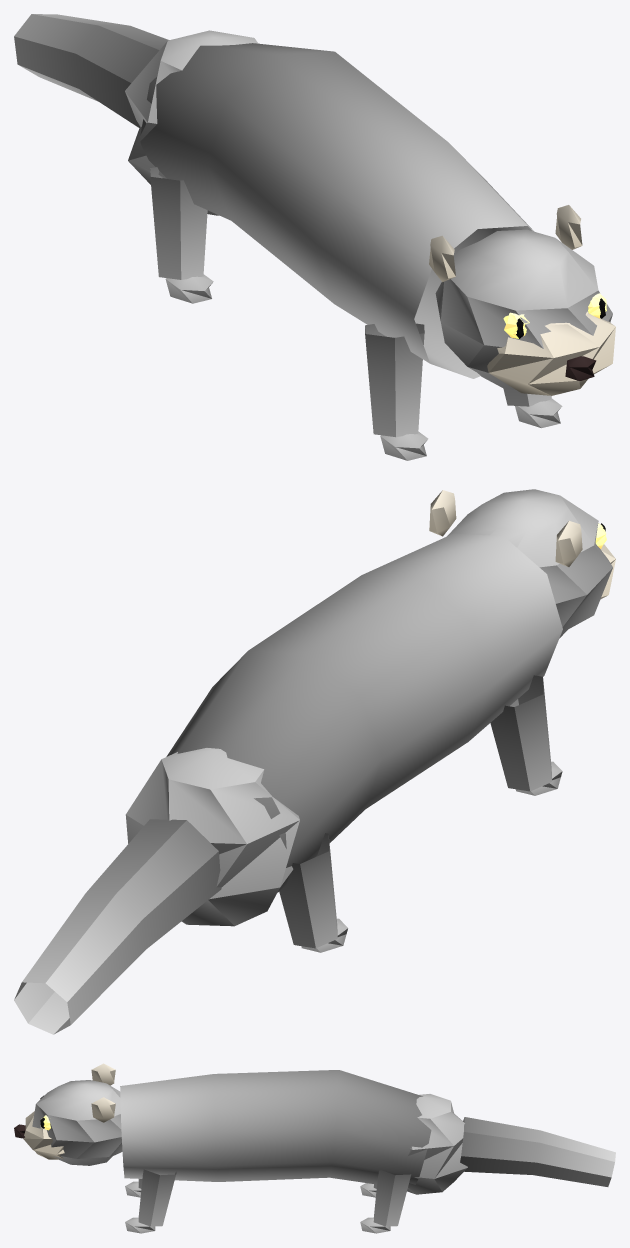
File: polecat.glb
3 renders of one model, top to bottom at view 1: azimuth 30°, elevation 25°; view 2: azimuth 150°, elevation 25°; view 3: azimuth 270°, elevation 25°, orthographic. The views are drawn at different scales.
Parts seen in each view (by area): view 1: body, head, tail, head_trim, leg_FR, leg_BR, leg_FL, head_glow; view 2: body, tail, head, leg_FR, leg_BR, head_trim; view 3: body, tail, head, head_trim, leg_FL, leg_BL.
Part boxes in pixels (x1,y1,x2,y2): body: [125, 30, 533, 378]; head: [435, 229, 612, 389]; tail: [14, 14, 169, 128]; head_trim: [429, 205, 615, 395]; leg_FR: [365, 323, 428, 460]; leg_BR: [150, 167, 213, 303]; leg_FL: [503, 388, 562, 428]; head_glow: [503, 293, 606, 338]; body: [125, 533, 562, 926]; tail: [14, 819, 221, 1034]; head: [447, 489, 612, 638]; leg_FR: [490, 675, 562, 795]; leg_BR: [279, 833, 347, 952]; head_trim: [429, 490, 615, 599]; body: [120, 1070, 467, 1194]; tail: [460, 1117, 615, 1186]; head: [32, 1080, 122, 1165]; head_trim: [14, 1063, 115, 1159]; leg_FL: [125, 1169, 176, 1233]; leg_BL: [360, 1170, 411, 1233].
Size of the model in its own units: 0.2398 by 0.3281 by 1.28.
